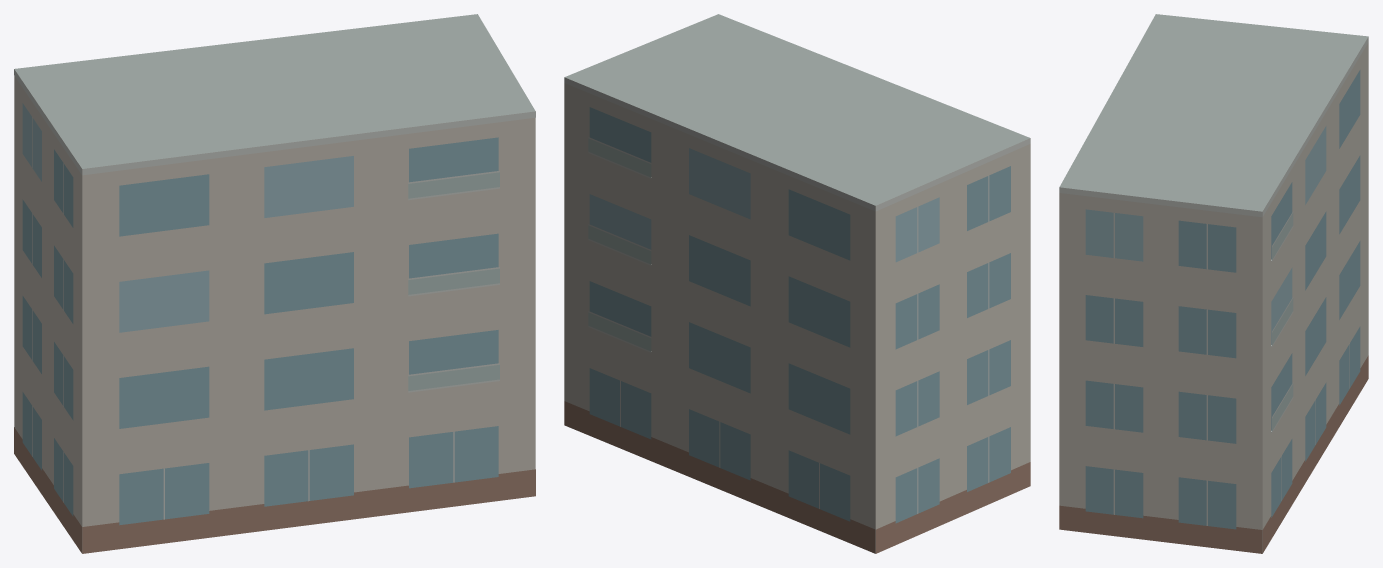
File: survey-upis-32821549.glb
3 views of the same model, side by side, from view 1: azimuth 30°, elevation 25°; view 2: azimuth 150°, elevation 25°; view 3: azimuth 270°, elevation 25° (orthographic). The views are drawn at different scales.
Visible parts, largest first — view 1: survey-upis-32821549.tmp; view 2: survey-upis-32821549.tmp; view 3: survey-upis-32821549.tmp.
Part boxes in pixels (x1,y1,x2,y2): survey-upis-32821549.tmp: (14, 14, 535, 553); survey-upis-32821549.tmp: (564, 14, 1030, 553); survey-upis-32821549.tmp: (1059, 14, 1368, 553).
Bounding box in the file's own units: 18.47 × 14.9 × 12.22.
